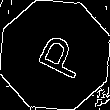P_NW: (25, 27, 85, 83)
